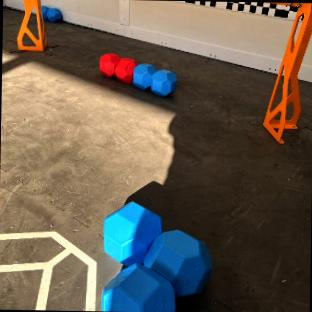V5_BLUE: (101, 202, 211, 311), (101, 265, 174, 312), (151, 70, 175, 94), (134, 64, 154, 87), (47, 8, 61, 21)
V5_RED: (99, 53, 135, 83)
